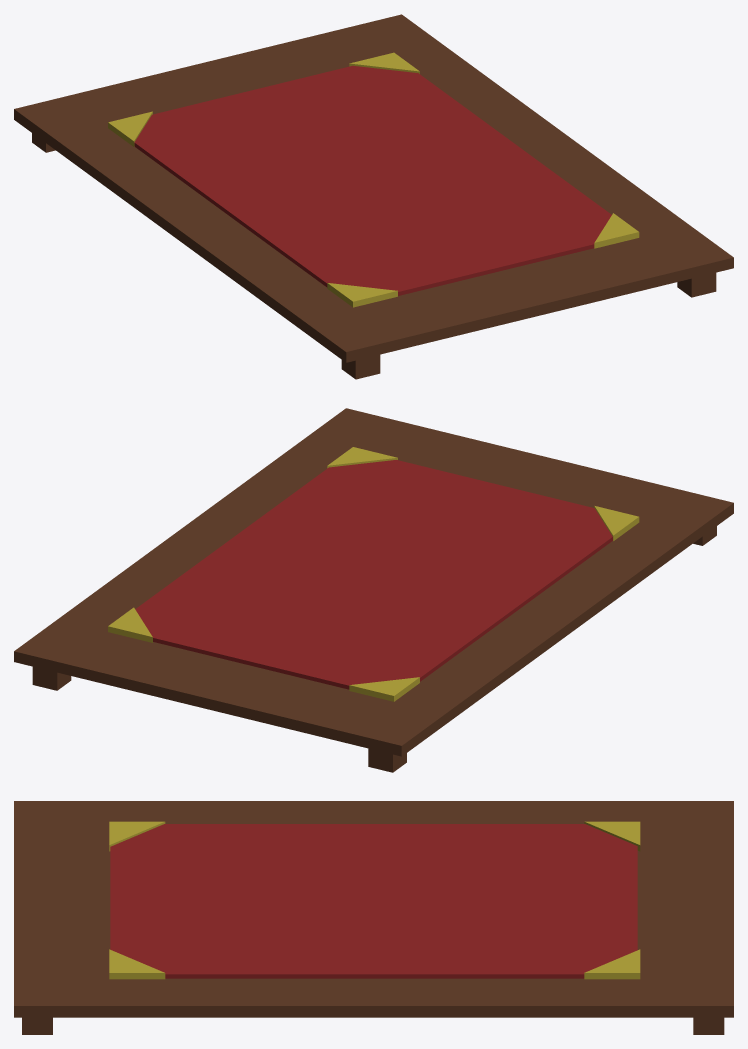
File: table and playmat.fbx
3 views of the same model, one above another, from view 1: azimuth 30°, elevation 25°; view 2: azimuth 150°, elevation 25°; view 3: azimuth 270°, elevation 25° (orthographic). The views are drawn at different scales.
Parts seen in each view (by area): view 1: cloth, tabel, Cube.056, Cube.057, Cube.058, Cube.059, Cube.044, Cube.043; view 2: cloth, tabel, Cube.058, Cube.059, Cube.056, Cube.057, Cube.055, Cube.054; view 3: cloth, tabel, Cube.059, Cube.057, Cube.058, Cube.056, Cube.054, Cube.043.
Boxes of the visible parts, x1,y1,x2,y2 form: cloth: [134, 65, 611, 295]; tabel: [14, 14, 733, 362]; Cube.056: [327, 283, 397, 307]; Cube.057: [594, 213, 639, 248]; Cube.058: [108, 111, 152, 146]; Cube.059: [349, 52, 419, 73]; Cube.044: [341, 354, 380, 379]; Cube.043: [677, 272, 716, 297]; cloth: [135, 460, 612, 689]; tabel: [14, 408, 733, 756]; Cube.058: [349, 677, 419, 701]; Cube.059: [108, 607, 152, 642]; Cube.056: [594, 506, 639, 541]; Cube.057: [327, 447, 397, 468]; Cube.055: [368, 748, 406, 772]; Cube.054: [32, 666, 71, 690]; cloth: [110, 824, 637, 978]; tabel: [14, 801, 733, 1017]; Cube.059: [584, 949, 640, 979]; Cube.057: [109, 949, 165, 979]; Cube.058: [584, 821, 640, 851]; Cube.056: [109, 821, 165, 851]; Cube.054: [693, 1017, 724, 1034]; Cube.043: [22, 1017, 52, 1034].
Size of the model in its own units: 132 by 12.8 by 196.
